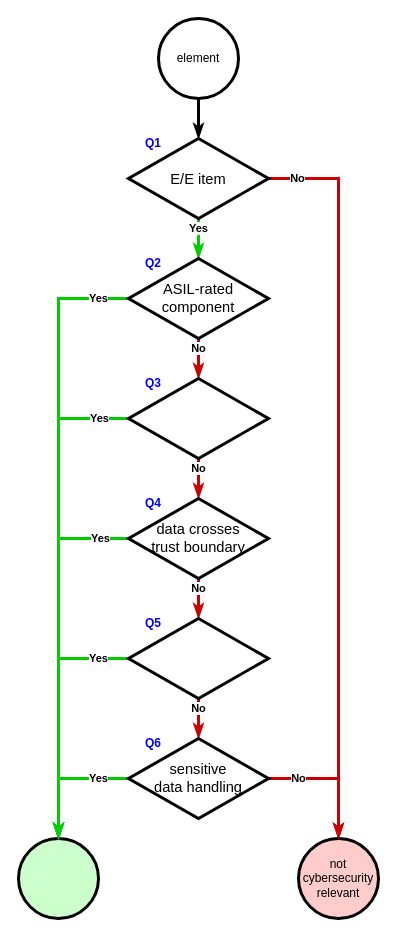
Image size: 397x937. Some labels were removed from this diagram. Here are the shapes that lost their labels. From the top down, the box of each, then its label:
(126, 376, 270, 460): external vehicle interfaces
(126, 616, 270, 700): regulated data management
(16, 836, 100, 920): cybersecurity relevant
